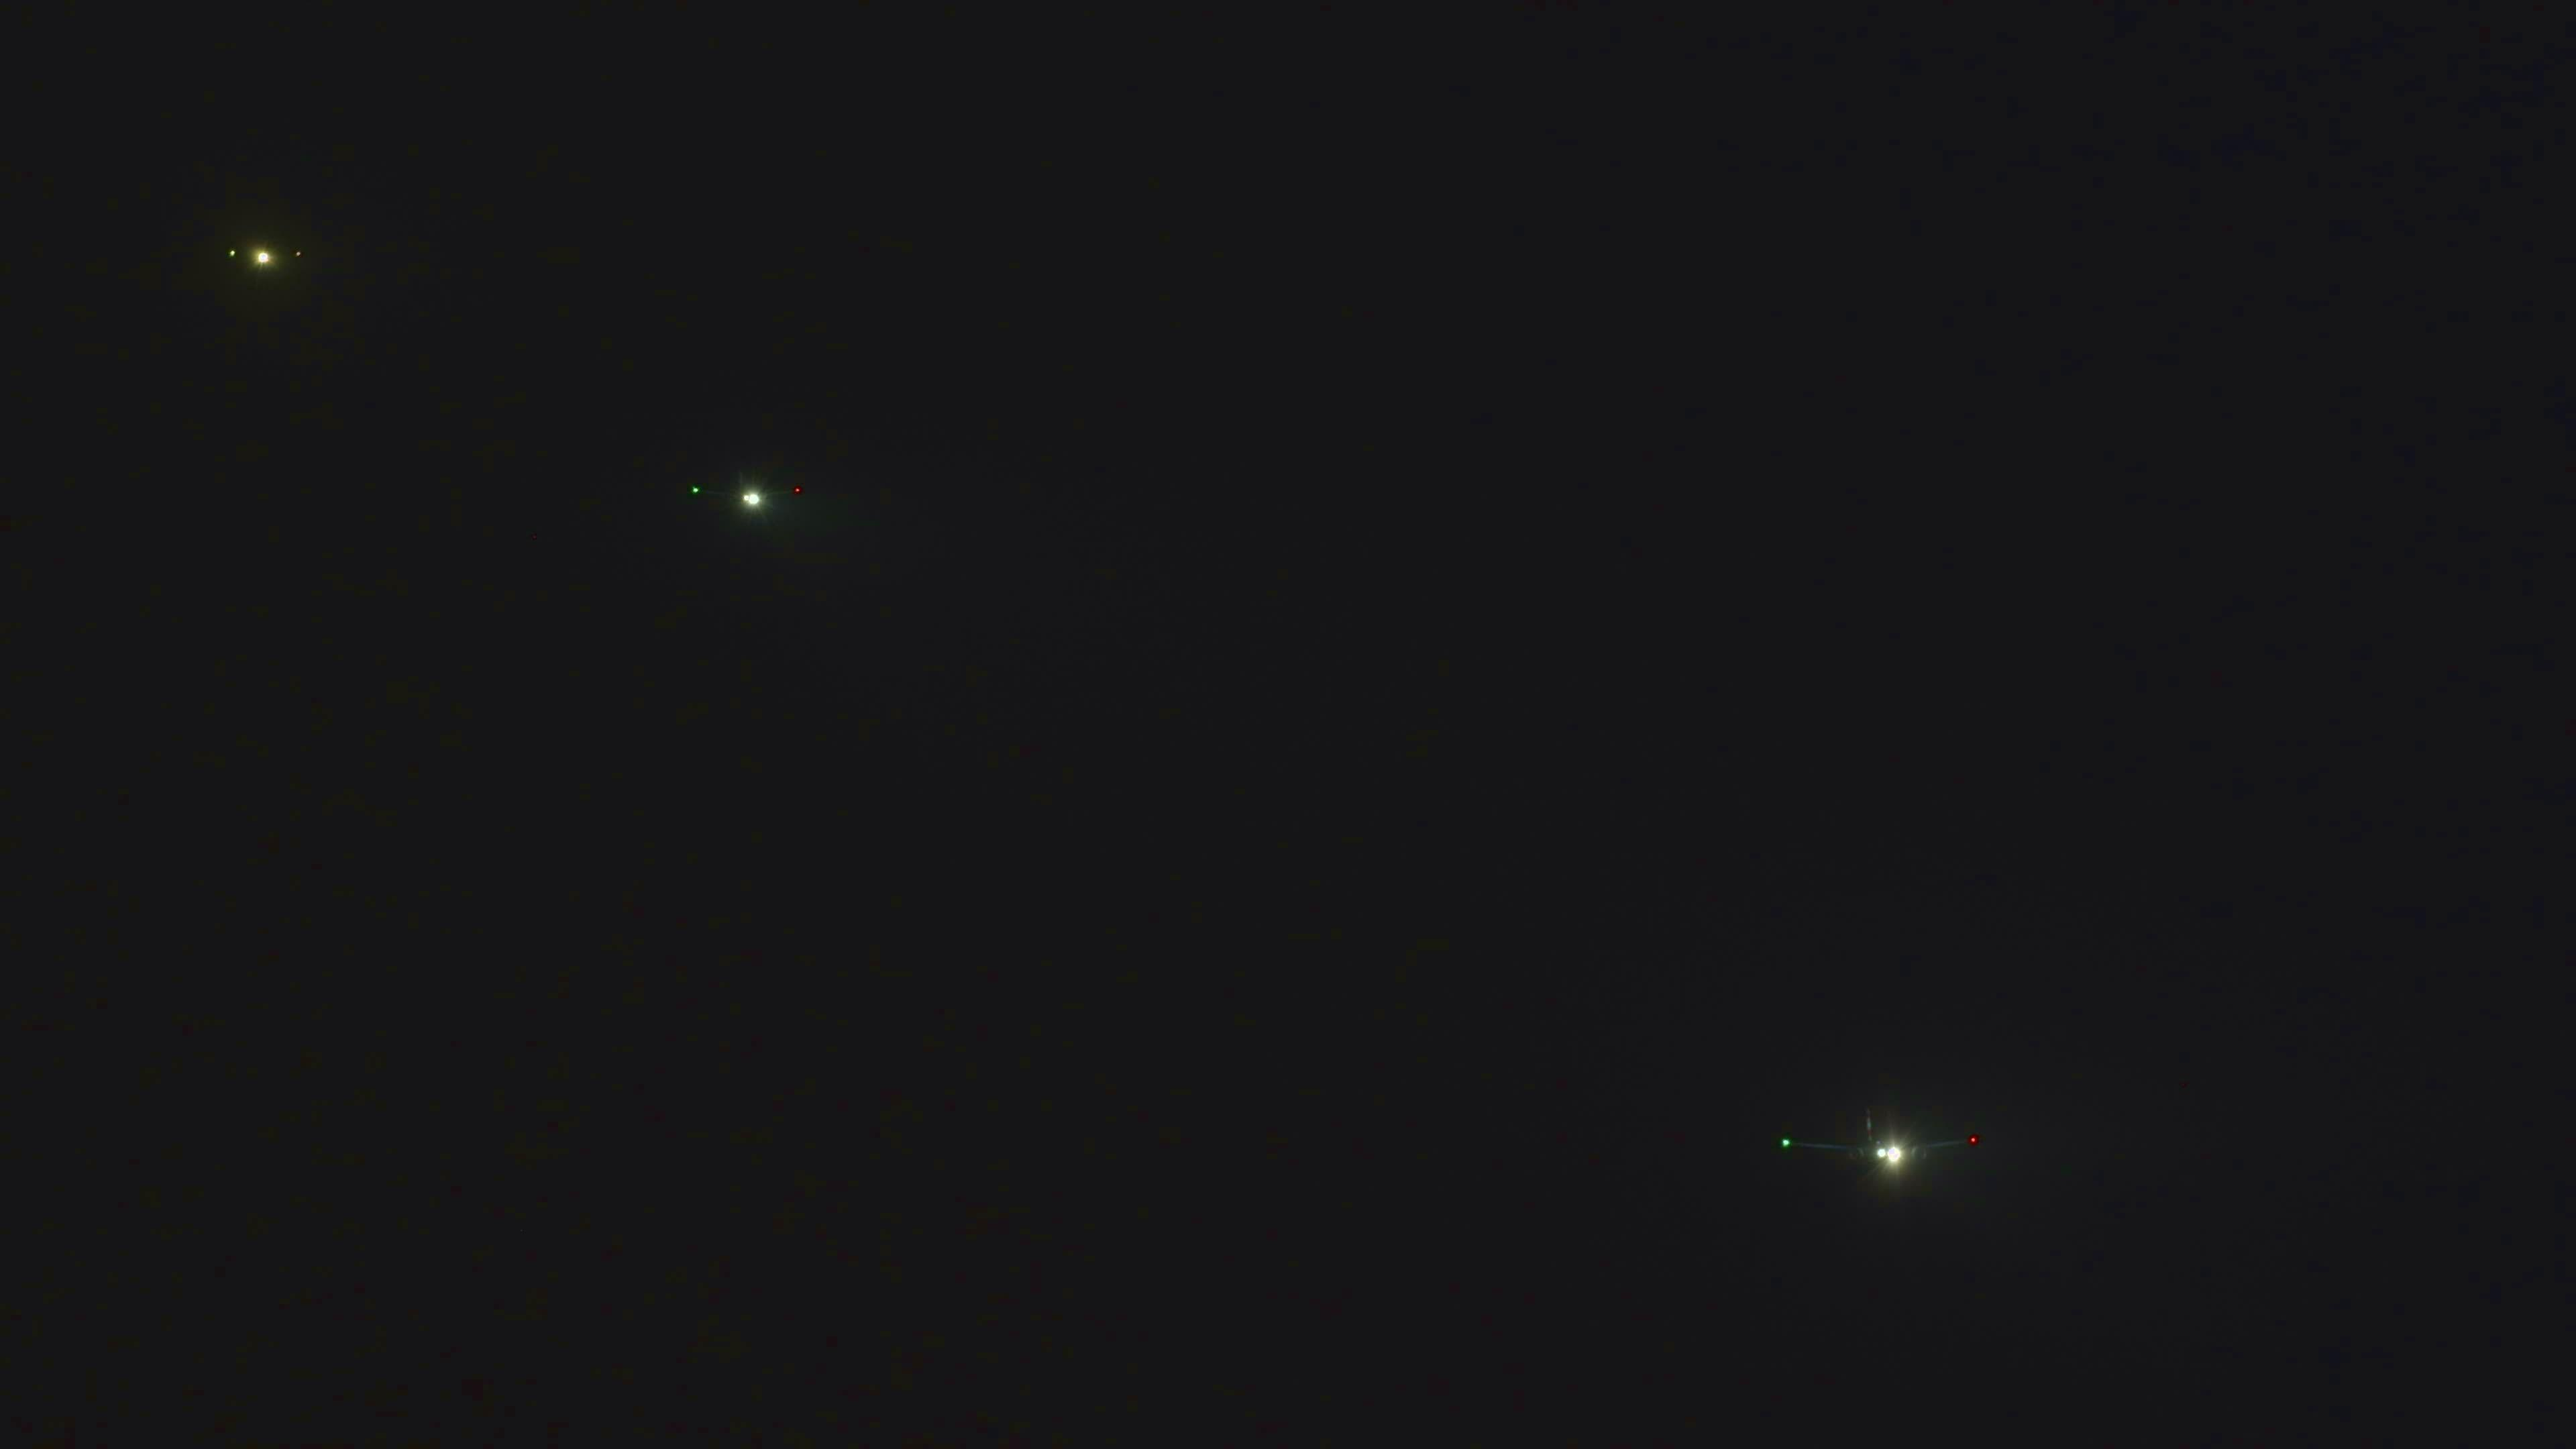Plane: (1690, 1085, 2058, 1201), (692, 455, 816, 538), (202, 234, 326, 260)
